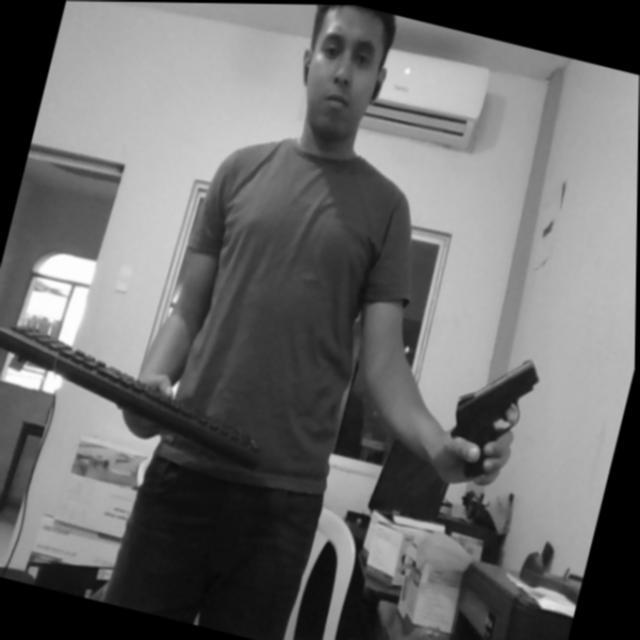weapon: (434, 341, 550, 498)
